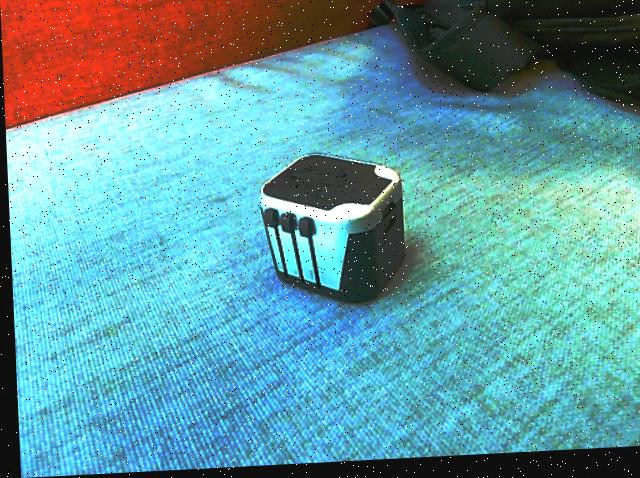adapter: (254, 153, 405, 311)
